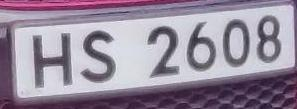0: (217, 16, 252, 67)
2: (142, 22, 185, 80)
6: (183, 18, 220, 75)
8: (252, 8, 284, 67)
H: (26, 27, 79, 95)
S: (76, 22, 124, 91)
